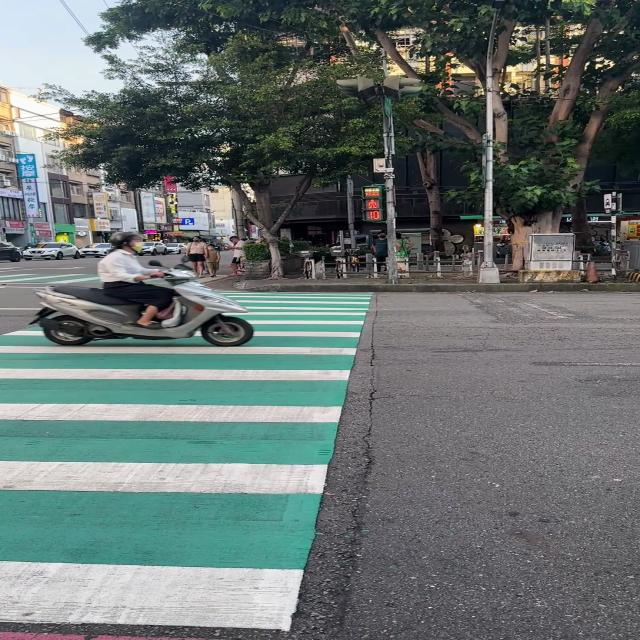car: (24, 242, 79, 260), (79, 242, 112, 258)
motocycle: (33, 264, 254, 346)
pedestrian: (0, 290, 379, 633), (185, 236, 207, 278), (395, 234, 412, 278), (227, 236, 243, 274), (205, 244, 221, 276), (373, 232, 388, 262)
